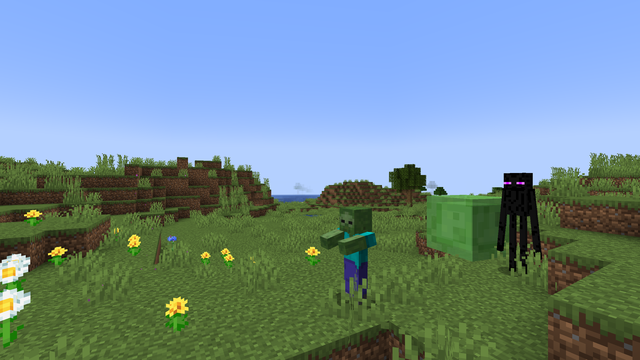endermens: (500, 169, 534, 277)
slimes: (425, 192, 497, 262)
zombies: (336, 208, 374, 308)
